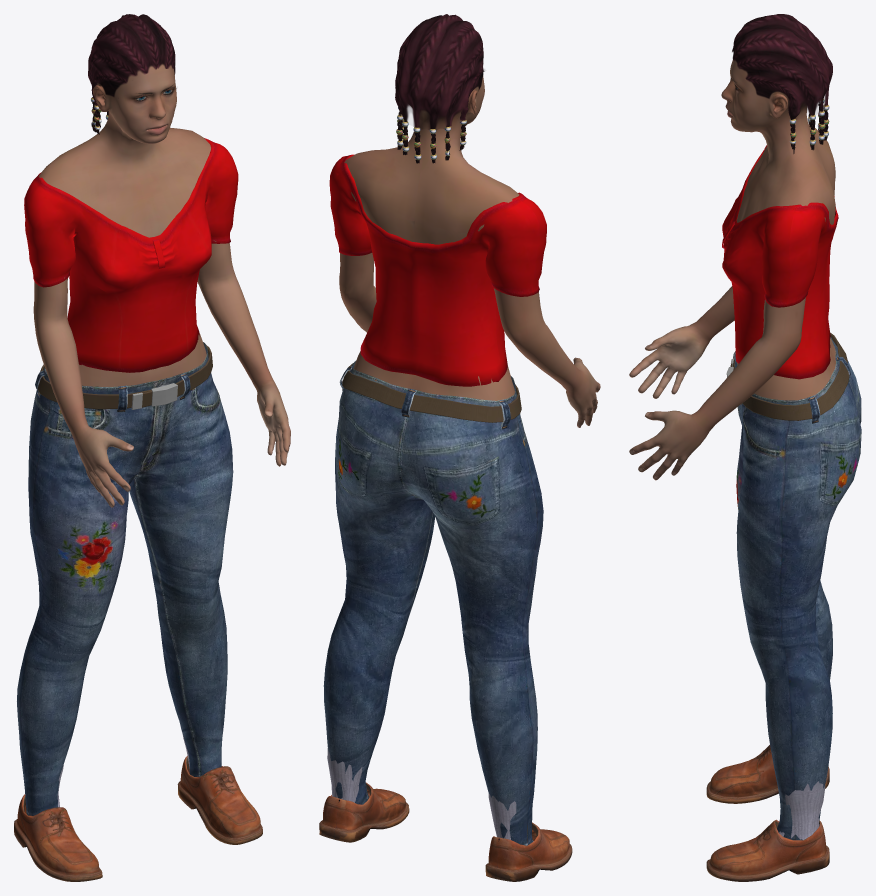
The model's file is donna-02.glb.
The picture shows the model from 3 angles, left to right: view 1: azimuth 30°, elevation 25°; view 2: azimuth 150°, elevation 25°; view 3: azimuth 270°, elevation 25°; orthographic projection. The views are drawn at different scales.
Visible parts, largest first — view 1: Human.mindfront_female_trousers_1, Human, Human.punkduck_retro_top, Human.shoes01, Human.elvs_braided_rows; view 2: Human.mindfront_female_trousers_1, Human.punkduck_retro_top, Human, Human.elvs_braided_rows, Human.shoes01; view 3: Human.mindfront_female_trousers_1, Human, Human.punkduck_retro_top, Human.shoes01, Human.elvs_braided_rows.
Boxes of the visible parts, x1,y1,x2,y2 form: Human.mindfront_female_trousers_1: [17, 342, 233, 815]; Human: [33, 64, 290, 507]; Human.punkduck_retro_top: [24, 138, 238, 372]; Human.shoes01: [14, 730, 262, 881]; Human.elvs_braided_rows: [88, 14, 175, 134]; Human.mindfront_female_trousers_1: [323, 360, 543, 845]; Human.punkduck_retro_top: [329, 154, 546, 386]; Human: [339, 75, 600, 427]; Human.elvs_braided_rows: [395, 14, 483, 163]; Human.shoes01: [319, 748, 572, 881]; Human.mindfront_female_trousers_1: [726, 332, 861, 840]; Human: [629, 60, 835, 480]; Human.punkduck_retro_top: [722, 145, 838, 379]; Human.shoes01: [706, 745, 829, 881]; Human.elvs_braided_rows: [732, 14, 832, 153].
Bounding box in the file's own units: 0.4715 × 1.75 × 0.4494.
Materials: 13 (13 with a texture image).
